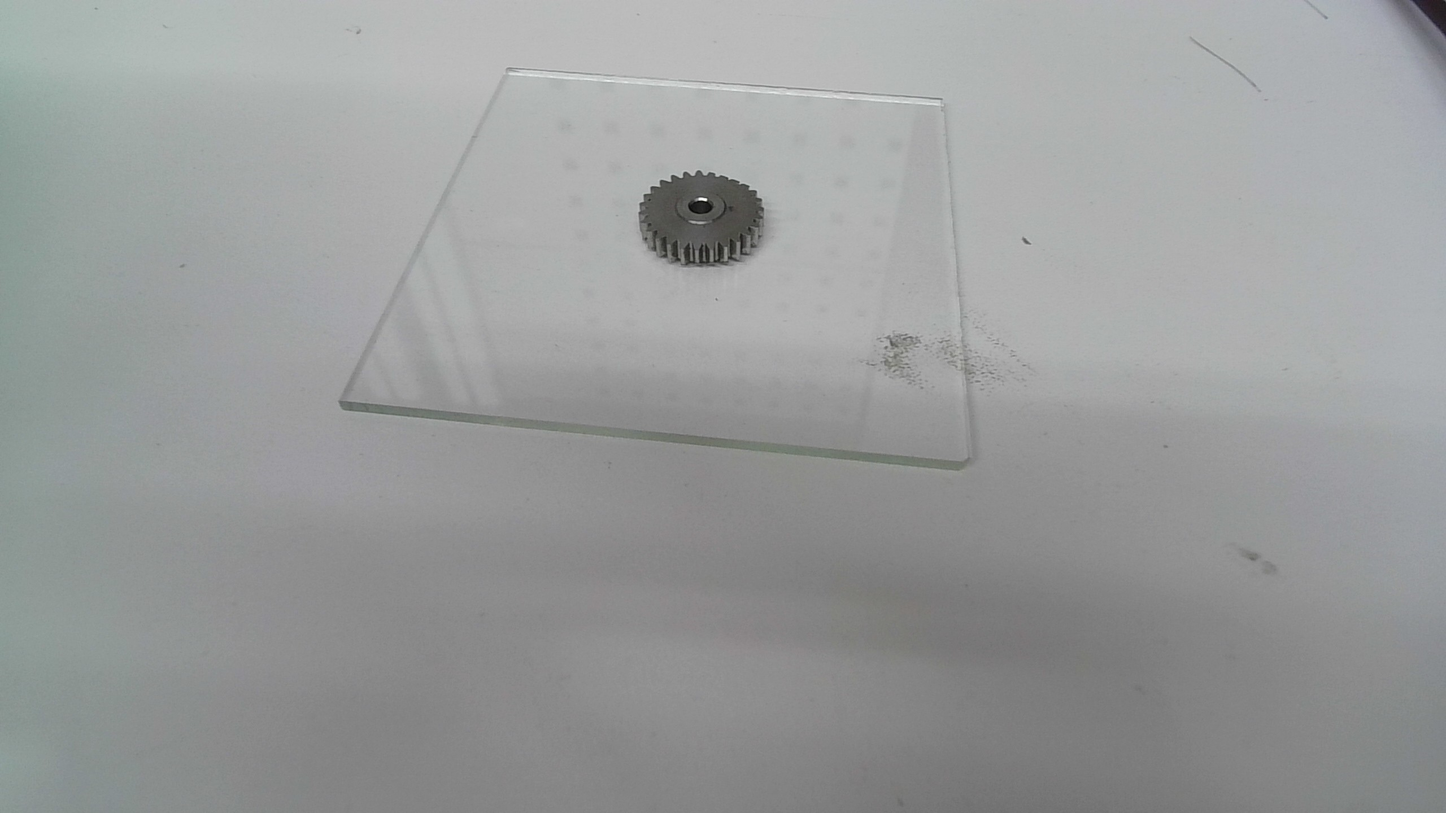gear: (636, 168, 768, 268)
